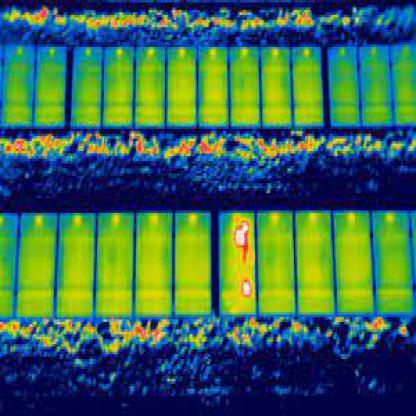anomaly: (232, 220, 252, 263), (239, 277, 253, 299)
